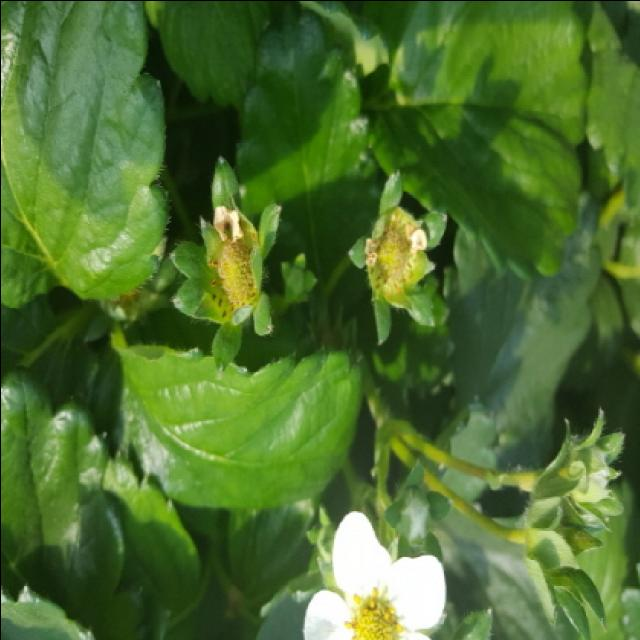Blossom Blight: (206, 221, 257, 314), (368, 209, 418, 294)
